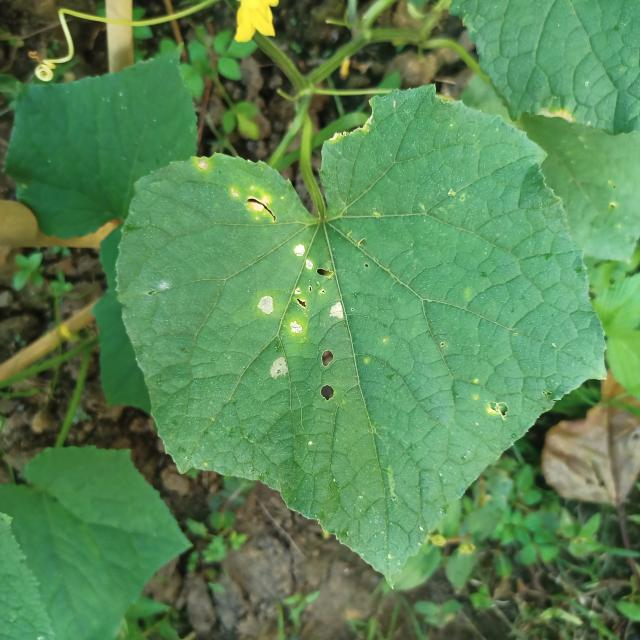disease_cucumber: (253, 231, 360, 388)
